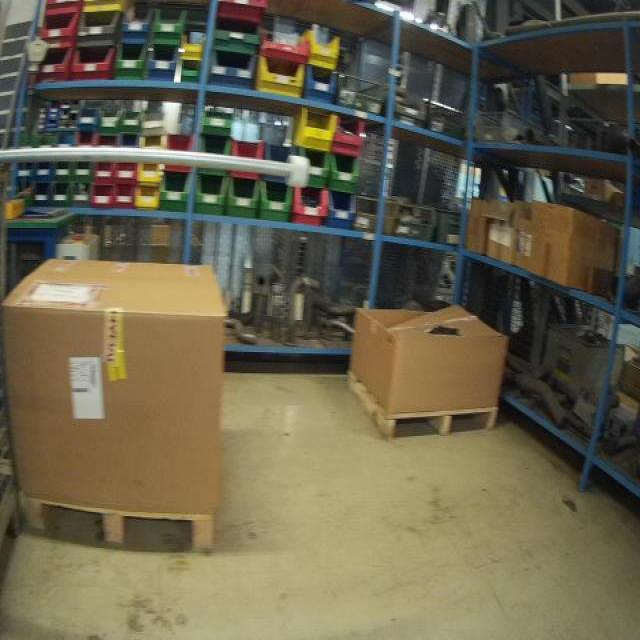pallet: (18, 494, 217, 557), (346, 370, 499, 443)
stillage: (1, 169, 14, 580)
